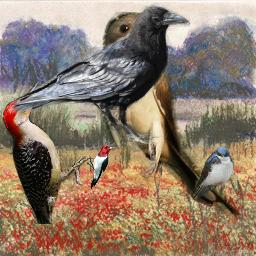Crow: (10, 3, 190, 145)
Cuckoo: (94, 12, 243, 227)
Swallow: (191, 146, 234, 200)
Woodpecker: (3, 83, 96, 224), (86, 145, 115, 191)
